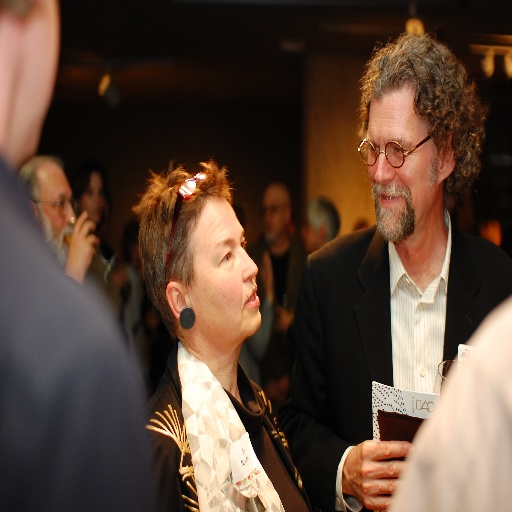hand: (348, 441, 416, 501), (64, 207, 100, 277), (258, 248, 273, 293), (274, 304, 294, 333)
